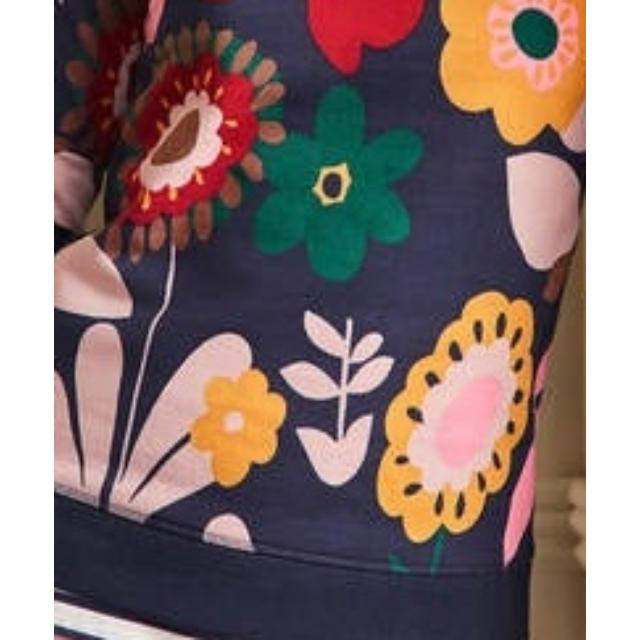cotton: (54, 0, 586, 618)
